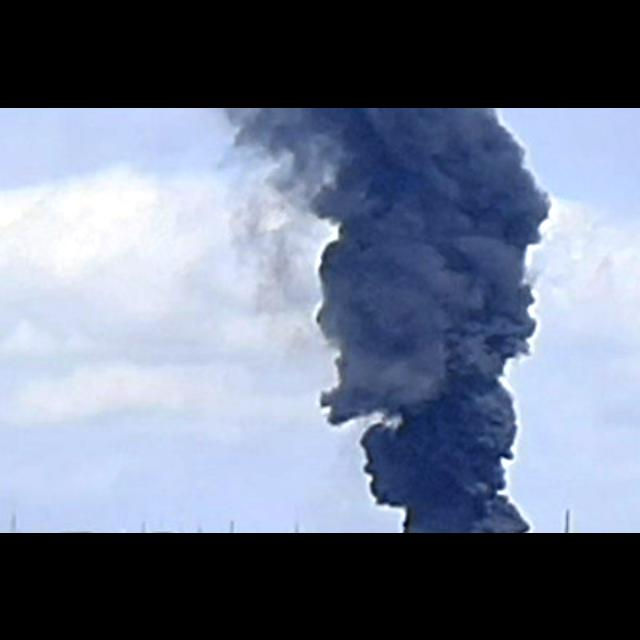smoke: (225, 107, 550, 533)
